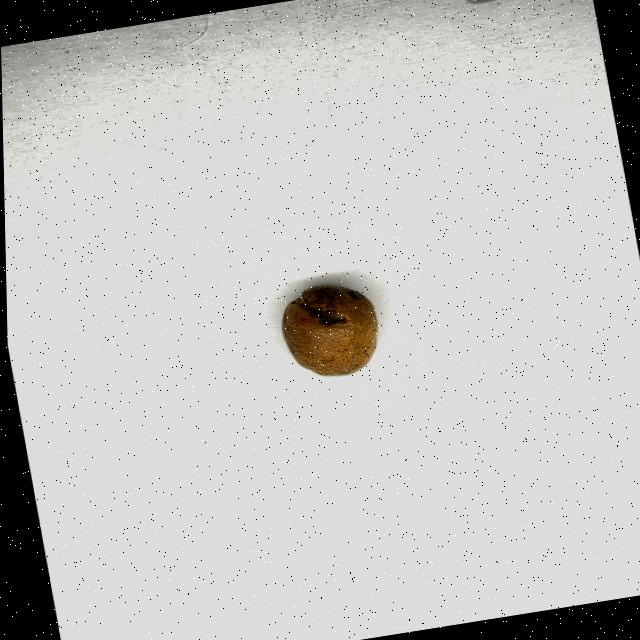Insect damage: (272, 277, 385, 385)
